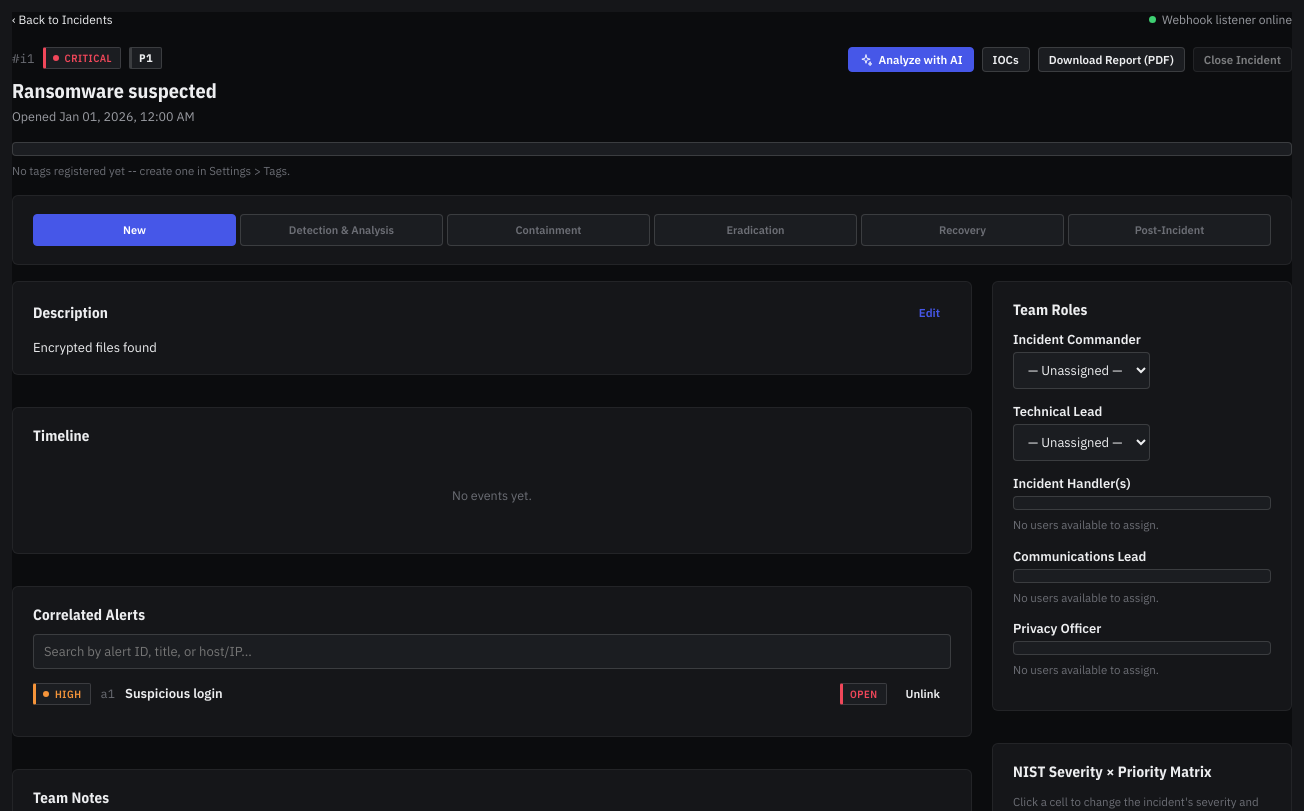
Test: IncidentDetailPage › an already-linked alert is filtered out of search results
The image size is (1304, 811).
Type "suspicious" into the dropdown with placeholder "Search by alert ID, title, or host/IP..." at (492, 652), box x1=33 y1=634 x2=951 y2=669
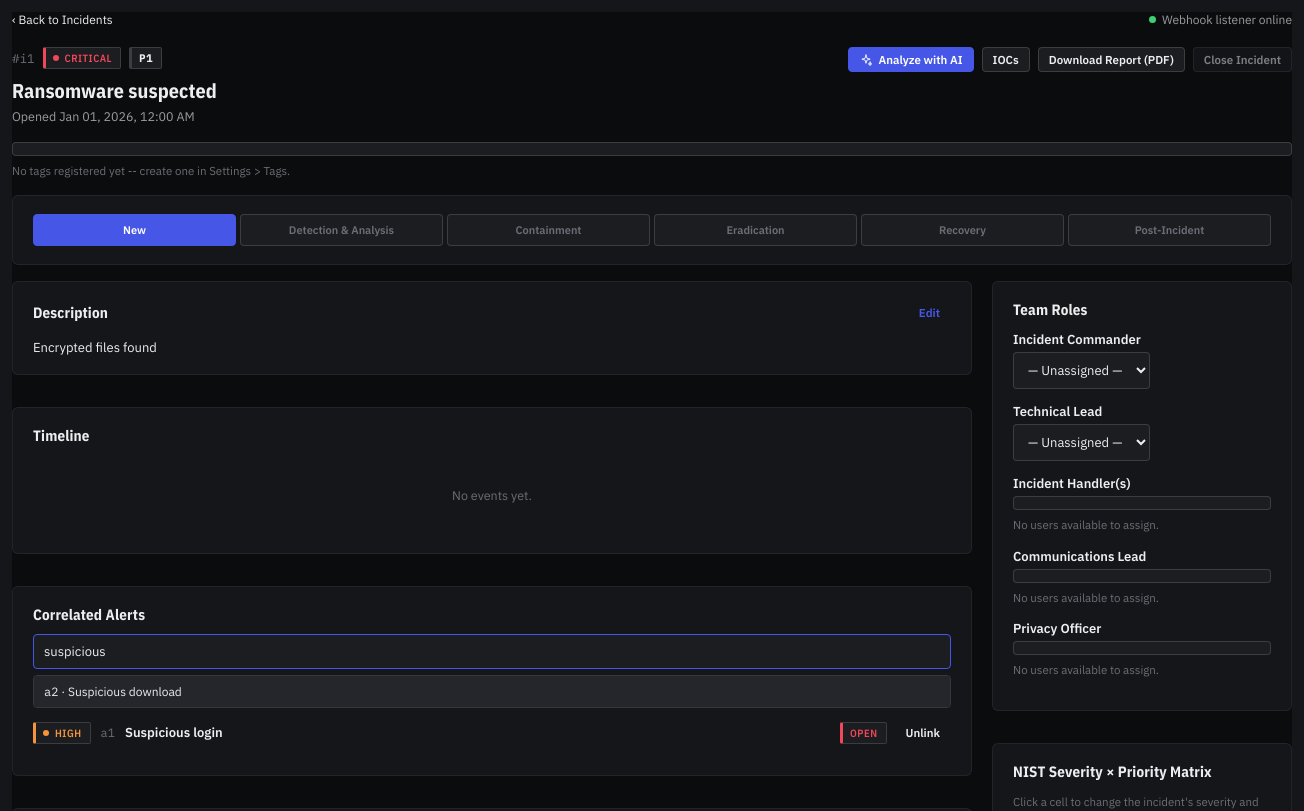
Check: the option "a2 · Suspicious download" is shown, box x1=34 y1=676 x2=950 y2=707
